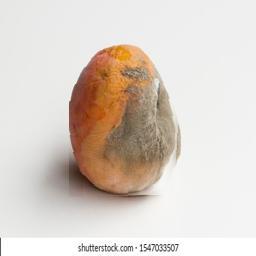Peach Rotten: (69, 43, 183, 198)
